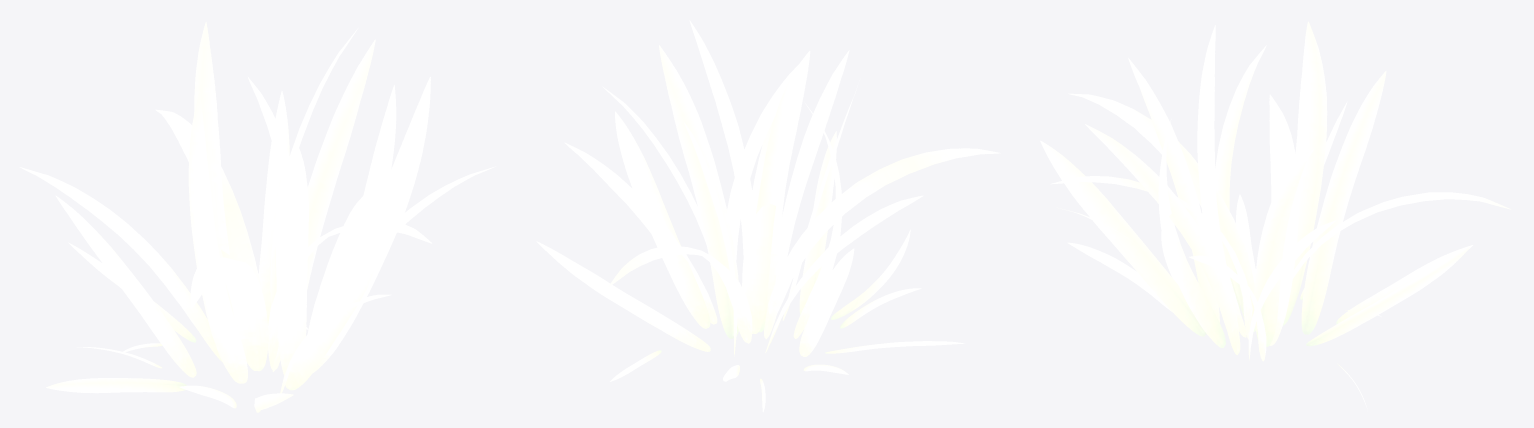
The picture shows the model from 3 angles, left to right: view 1: azimuth 30°, elevation 25°; view 2: azimuth 150°, elevation 25°; view 3: azimuth 270°, elevation 25°; orthographic projection. The views are drawn at different scales.
Visible parts, largest first — view 1: SM_BM_SwampGrass_04_LOD0; view 2: SM_BM_SwampGrass_04_LOD0; view 3: SM_BM_SwampGrass_04_LOD0.
Part boxes in pixels (bbox=[...]): SM_BM_SwampGrass_04_LOD0: bbox=[19, 22, 495, 412]; SM_BM_SwampGrass_04_LOD0: bbox=[536, 20, 1000, 412]; SM_BM_SwampGrass_04_LOD0: bbox=[1040, 21, 1510, 408].
Bounding box in the file's own units: 1.06 × 0.8306 × 1.1.
Materials: 1 (1 with a texture image).
